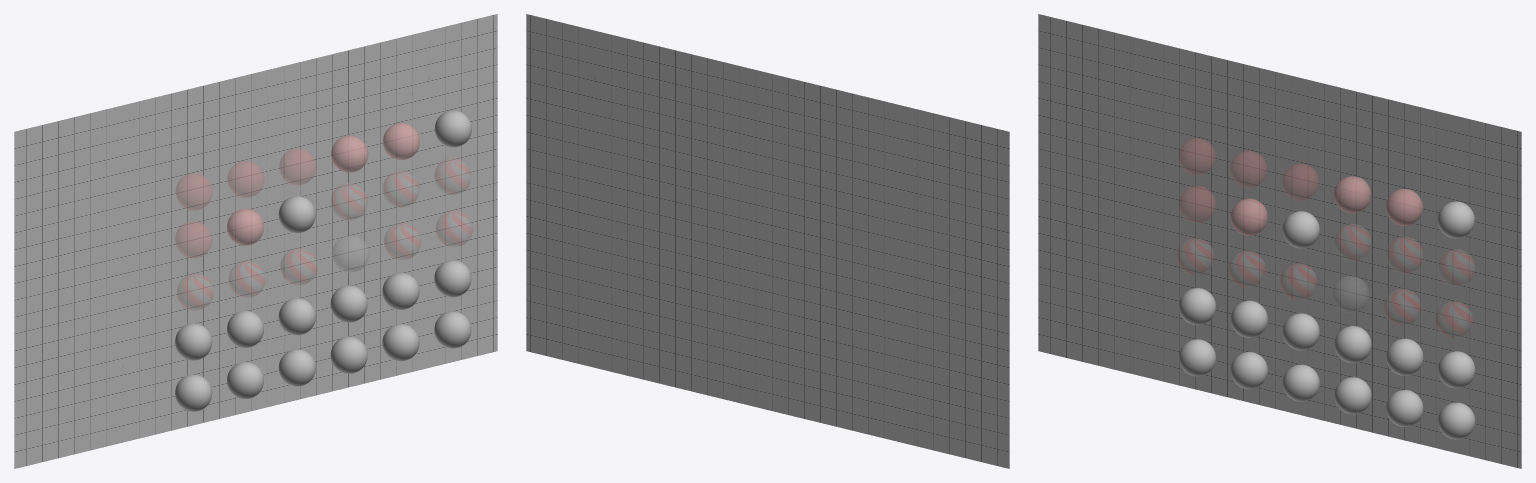
The model's file is surface_transmission.glb.
The picture shows the model from 3 angles, left to right: view 1: azimuth 30°, elevation 25°; view 2: azimuth 150°, elevation 25°; view 3: azimuth 330°, elevation 25°; orthographic projection.
Visible parts, largest first — view 1: MeterGrid_n3d, DiffuseTransWeight_Coat1, DiffuseTransWeight_Coat0, DiffuseTransWeight_Coat0_Volume, DiffuseTransWeight_Coat1_Volume, CoatWeight_DiffuseTrans0_Volume, CoatWeight_DiffuseTrans0, Const_Coat1_Trans0, DiffuseTransWeight_Coat0.5_Volume, CoatWeight_DiffuseTrans1_Volume, DiffuseTransWeight_Coat0.5, CoatWeight_DiffuseTrans1 (+19 smaller); view 2: MeterGrid_n3d; view 3: MeterGrid_n3d, CoatWeight_DiffuseTrans0_Volume, DiffuseTransWeight_Coat0_Volume, DiffuseTransWeight_Coat0.5, CoatWeight_Trans0, Const_Coat1_Trans0, DiffuseTransWeight_Coat1_Volume, DiffuseTransWeight_Coat1, CoatWeight_DiffuseTrans0, CoatWeight_DiffuseTrans0.5, DiffuseTransWeight_Coat0, CoatWeight_DiffuseTrans1 (+19 smaller).
Part boxes in pixels (left/top/right/bottom): MeterGrid_n3d: left=14, top=14, right=497, bottom=468; DiffuseTransWeight_Coat1: left=434, top=260, right=471, bottom=297; DiffuseTransWeight_Coat0: left=330, top=285, right=367, bottom=322; DiffuseTransWeight_Coat0_Volume: left=330, top=336, right=367, bottom=373; DiffuseTransWeight_Coat1_Volume: left=434, top=311, right=471, bottom=348; CoatWeight_DiffuseTrans0_Volume: left=278, top=349, right=315, bottom=386; CoatWeight_DiffuseTrans0: left=278, top=298, right=315, bottom=335; Const_Coat1_Trans0: left=434, top=110, right=471, bottom=147; DiffuseTransWeight_Coat0.5_Volume: left=382, top=324, right=419, bottom=361; CoatWeight_DiffuseTrans1_Volume: left=175, top=374, right=212, bottom=411; DiffuseTransWeight_Coat0.5: left=382, top=272, right=419, bottom=309; CoatWeight_DiffuseTrans1: left=175, top=323, right=212, bottom=360; MeterGrid_n3d: left=526, top=14, right=1009, bottom=468; MeterGrid_n3d: left=1038, top=14, right=1521, bottom=468; CoatWeight_DiffuseTrans0_Volume: left=1282, top=364, right=1319, bottom=401; DiffuseTransWeight_Coat0_Volume: left=1334, top=377, right=1371, bottom=414; DiffuseTransWeight_Coat0.5: left=1386, top=338, right=1423, bottom=375; CoatWeight_Trans0: left=1282, top=211, right=1319, bottom=248; Const_Coat1_Trans0: left=1437, top=201, right=1474, bottom=238; DiffuseTransWeight_Coat1_Volume: left=1438, top=402, right=1475, bottom=439; DiffuseTransWeight_Coat1: left=1438, top=351, right=1475, bottom=388; CoatWeight_DiffuseTrans0: left=1282, top=313, right=1319, bottom=350; CoatWeight_DiffuseTrans0.5: left=1230, top=300, right=1267, bottom=337; DiffuseTransWeight_Coat0: left=1334, top=326, right=1371, bottom=362; CoatWeight_DiffuseTrans1: left=1179, top=288, right=1215, bottom=325.
Bounding box in the file's own units: 1.5 × 1 × 0.1148.
30 materials, 10 textured.
